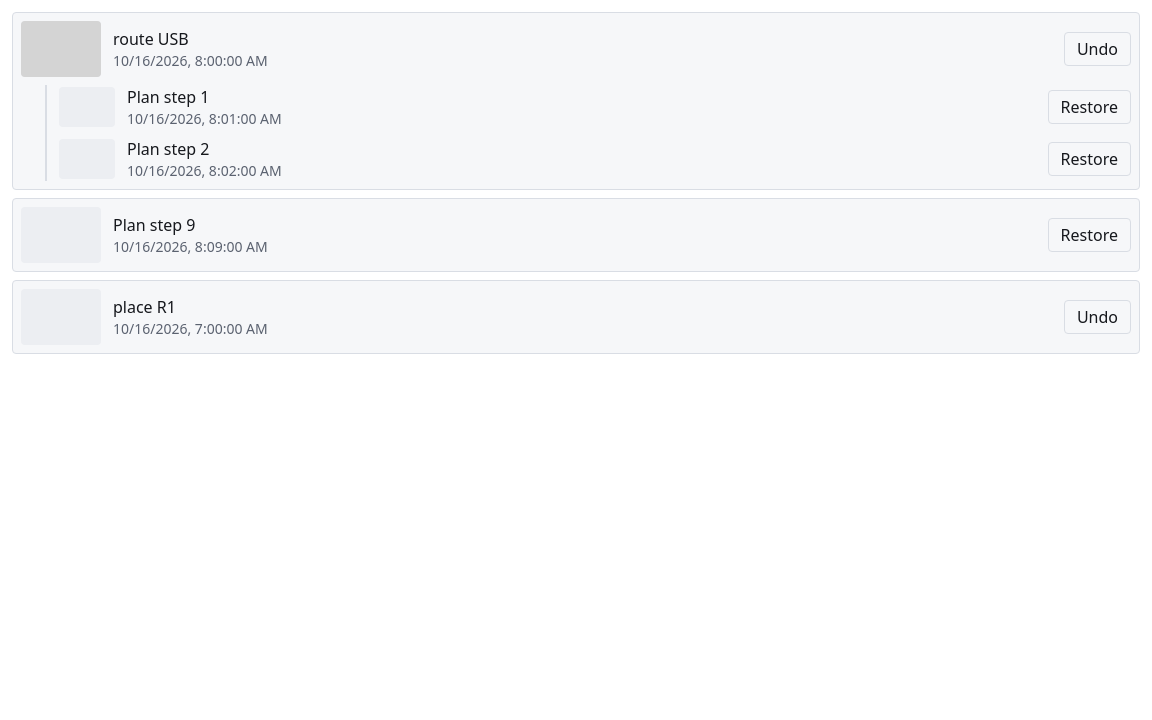
Test case: HistoryPanel › plan step checkpoints › a restore refused because a plan is open shows the reason
What coordinates should you click on to do the following:
click the button "Restore" in the row of "10/16/2026, 8:02:00 AM"
I would click on:
 (1089, 159)
Its box is top-left (1048, 142), bottom-right (1131, 176).
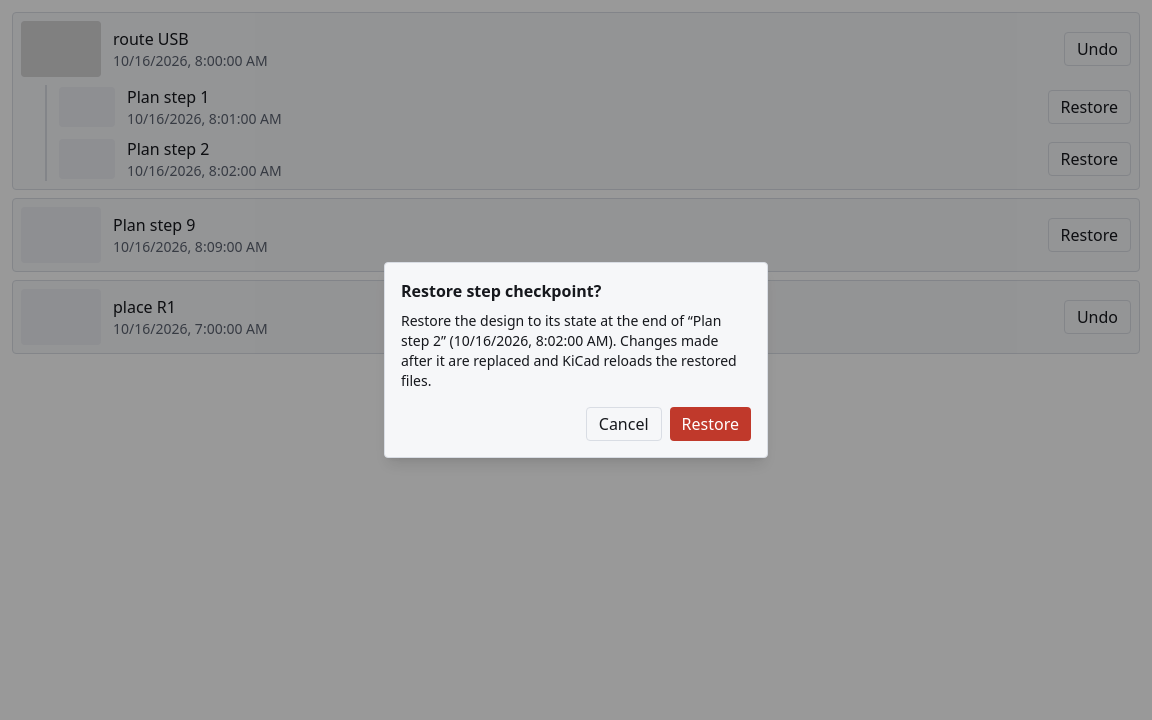
What coordinates should you click on to do the following:
click the button "Restore"
I would click on:
 (710, 424)
Its box is top-left (670, 407), bottom-right (751, 441).
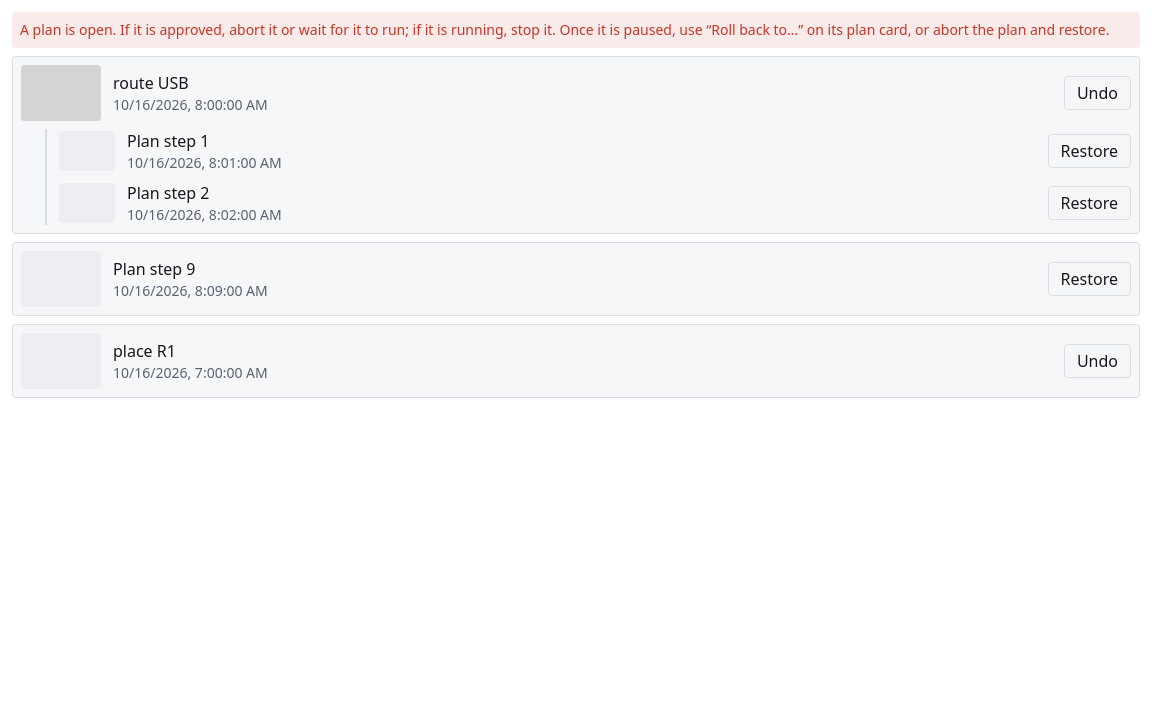
Check: the message shows "Roll back to…", box top-left (20, 20), bottom-right (1110, 39)
